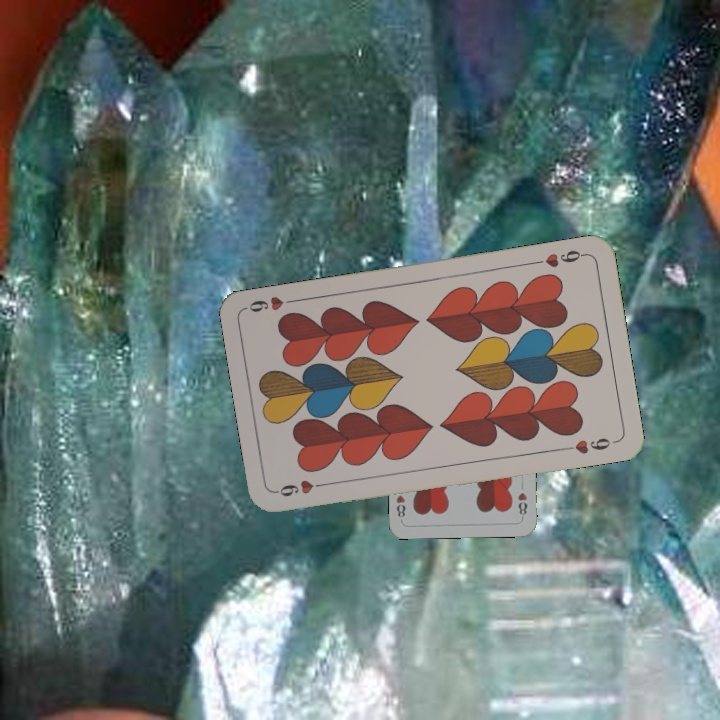H8: (514, 488, 530, 520)
H9: (530, 246, 589, 270), (272, 475, 331, 499)
